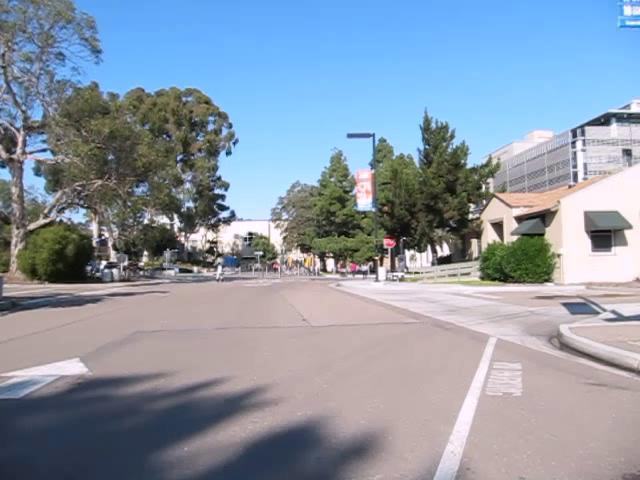stop: (382, 233, 397, 248)
